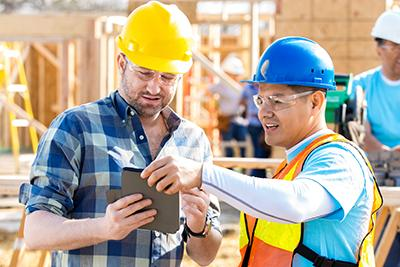helmet: (119, 2, 195, 75), (247, 37, 338, 92), (371, 10, 400, 47)
